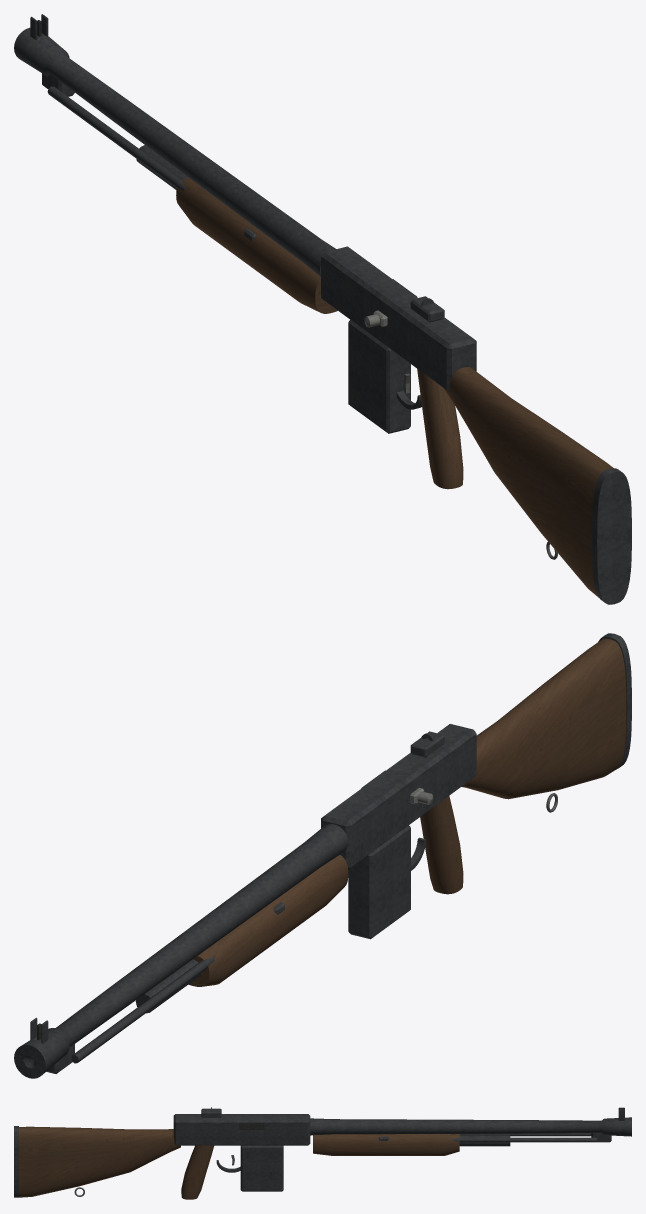
Rendered from bar.glb.
The picture shows the model from 3 angles, top to bottom: view 1: azimuth 30°, elevation 25°; view 2: azimuth 150°, elevation 25°; view 3: azimuth 270°, elevation 25°; orthographic projection. The views are drawn at different scales.
Visible parts, largest first — view 1: FP_body, TP_body, FP_mag, WD_body; view 2: FP_body, FP_mag, TP_body; view 3: FP_body, TP_body, FP_mag.
Part boxes in pixels (box(x1,y1,x2,y2)): FP_body: box(14, 14, 631, 604); TP_body: box(17, 30, 631, 602); FP_mag: box(348, 320, 410, 433); WD_body: box(316, 300, 631, 603); FP_body: box(14, 633, 631, 1078); FP_mag: box(348, 825, 410, 939); TP_body: box(14, 634, 630, 1078); FP_body: box(14, 1107, 631, 1199); TP_body: box(14, 1117, 631, 1198); FP_mag: box(240, 1145, 283, 1191).
Size of the model in its own units: 0.062 by 0.1949 by 1.22.
5 materials, 5 textured.
